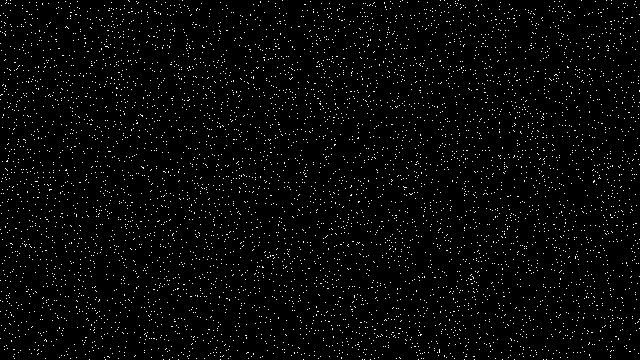pot: (390, 109, 473, 164), (116, 163, 189, 221), (215, 141, 249, 173)
